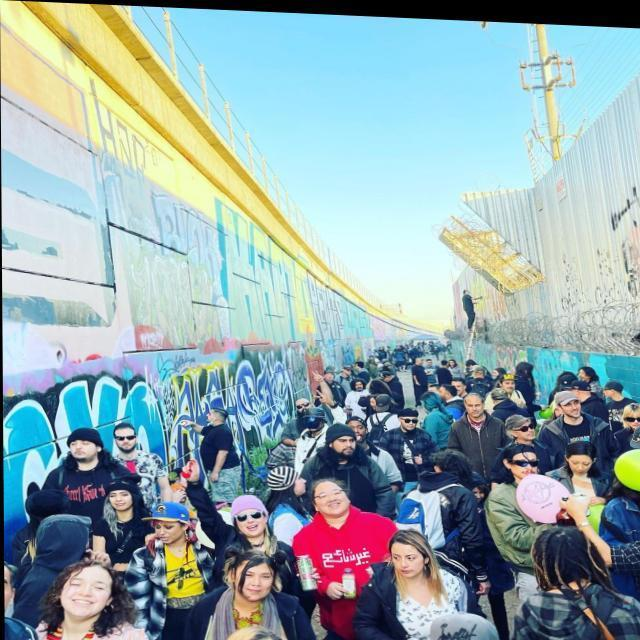-: (2, 360, 165, 574), (212, 196, 346, 338), (167, 365, 293, 447)
